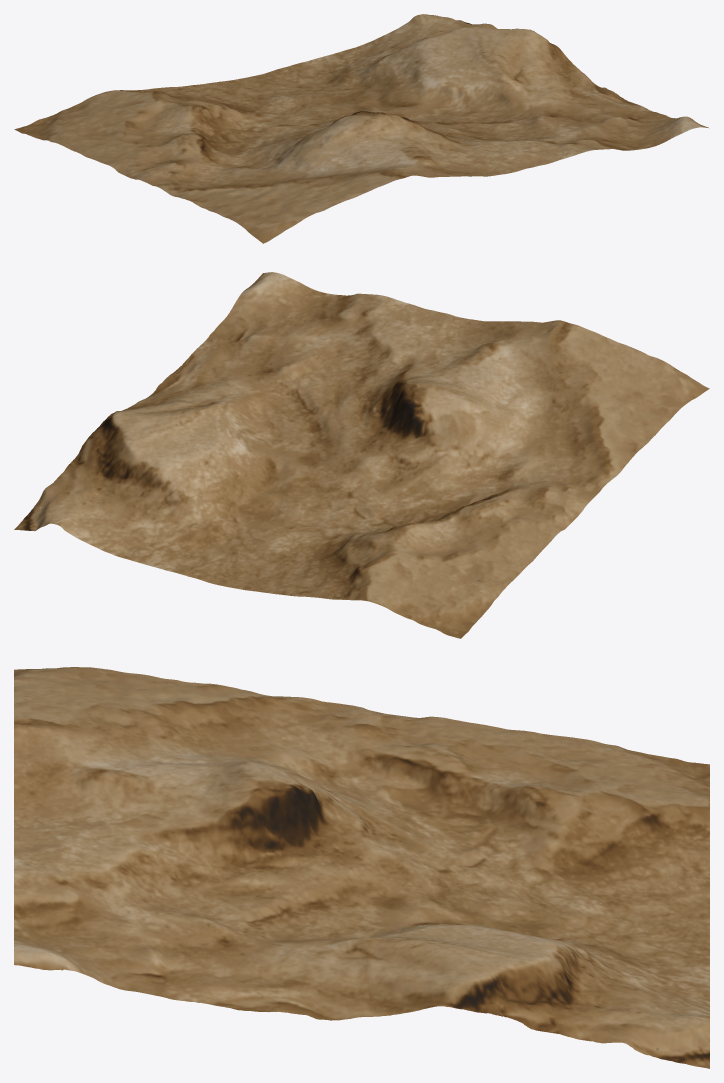
File: terrain_export_mountain.gltf
3 renders of one model, top to bottom at view 1: azimuth 30°, elevation 25°; view 2: azimuth 150°, elevation 25°; view 3: azimuth 270°, elevation 25°, orthographic. The views are drawn at different scales.
Visible parts, largest first — view 1: M2E.001; view 2: M2E.001; view 3: M2E.001.
Boxes of the visible parts, x1,y1,x2,y2 form: M2E.001: [14, 14, 709, 243]; M2E.001: [14, 272, 709, 638]; M2E.001: [14, 667, 709, 1068].
Size of the model in its own units: 304 by 68.27 by 293.
Materials: 1 (1 with a texture image).
